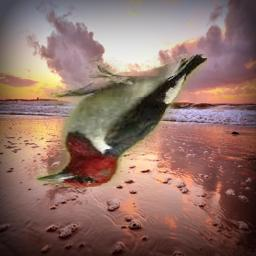Woodpecker: (37, 55, 208, 188)
